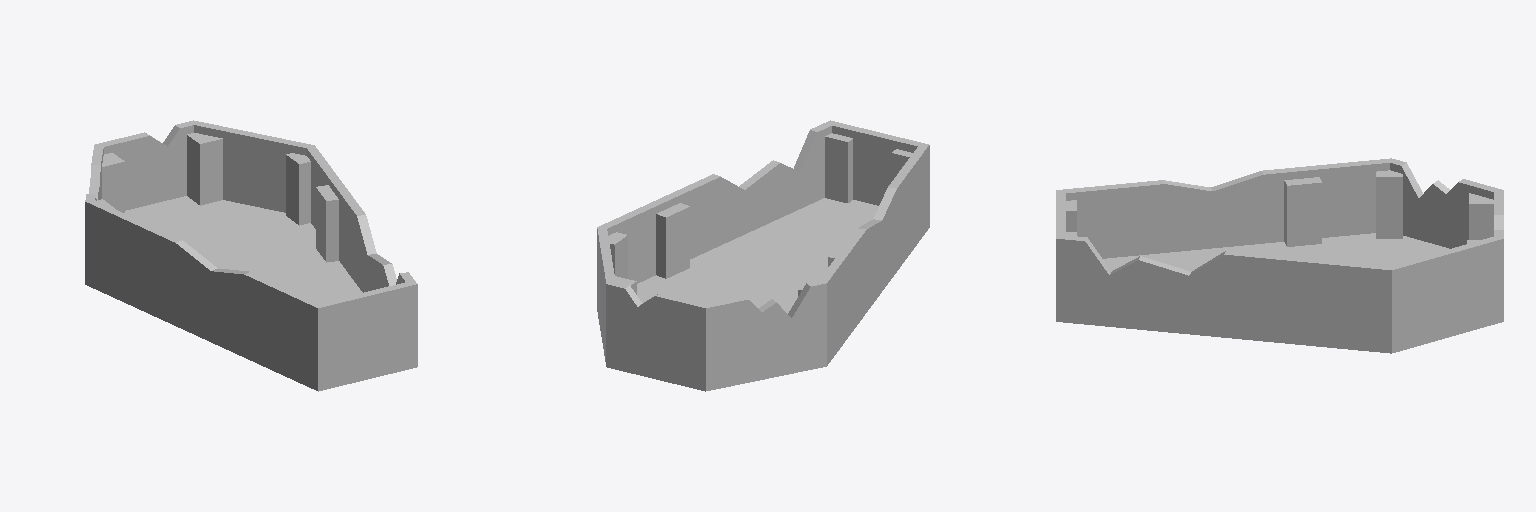
File: coffinOld.obj
3 renders of one model, left to right at view 1: azimuth 30°, elevation 25°; view 2: azimuth 150°, elevation 25°; view 3: azimuth 270°, elevation 25°, orthographic.
Parts seen in each view (by area): view 1: coffinOld; view 2: coffinOld; view 3: coffinOld.
Boxes of the visible parts, x1,y1,x2,y2 form: coffinOld: [85, 120, 417, 391]; coffinOld: [597, 120, 929, 391]; coffinOld: [1056, 158, 1503, 353].
Bounding box in the file's own units: 0.5928 × 0.2052 × 1.